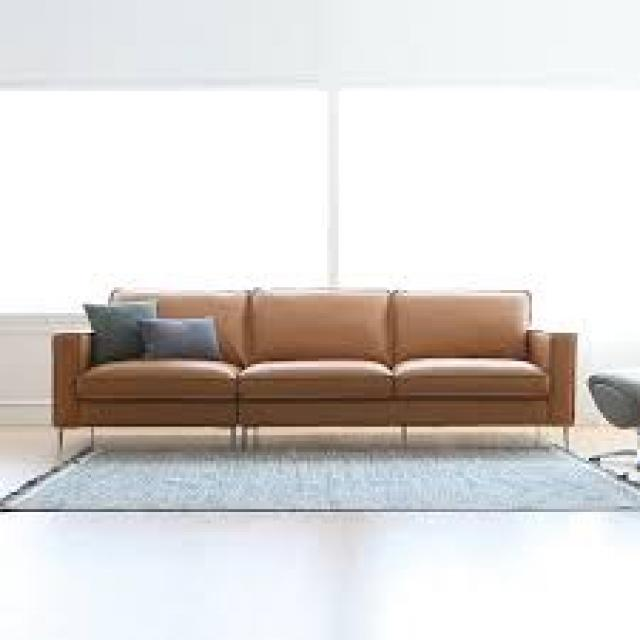Sofa: (33, 252, 592, 473)
